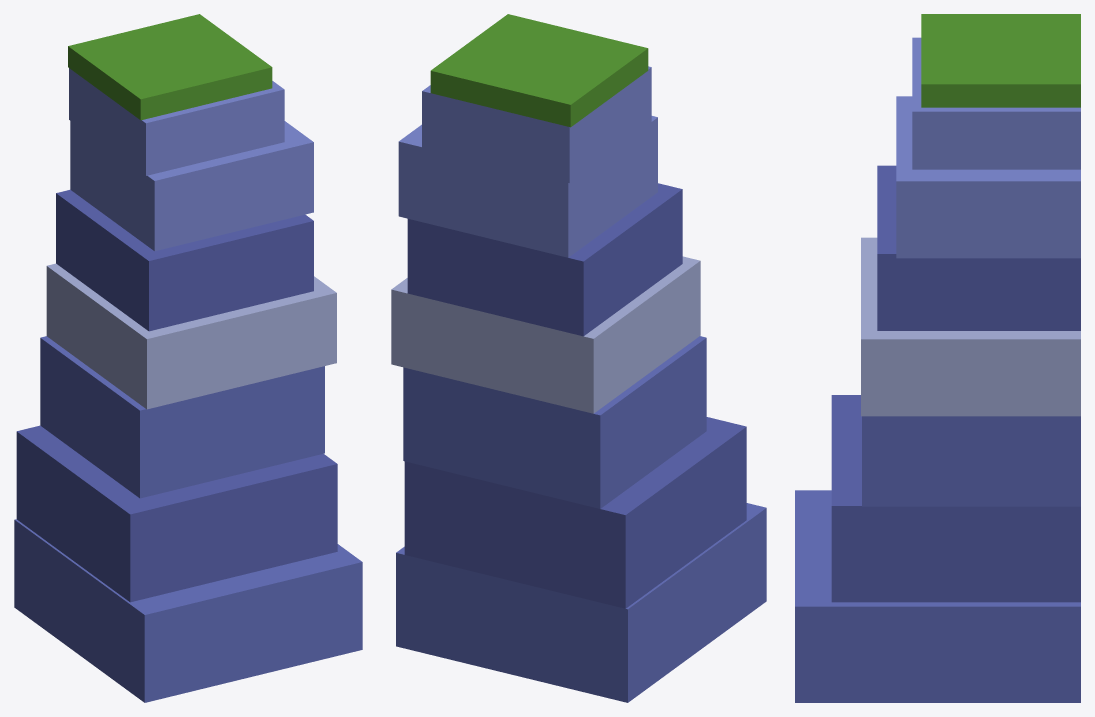
Rendered from Buttress.glb.
The picture shows the model from 3 angles, left to right: view 1: azimuth 30°, elevation 25°; view 2: azimuth 150°, elevation 25°; view 3: azimuth 270°, elevation 25°; orthographic projection. The views are drawn at different scales.
Parts seen in each view (by area): view 1: Buttress; view 2: Buttress; view 3: Buttress.
Part boxes in pixels (x1=…): Buttress: x1=14, y1=14, x2=362, y2=702; Buttress: x1=391, y1=14, x2=766, y2=702; Buttress: x1=795, y1=14, x2=1080, y2=702.
Bounding box in the file's own units: 6.61 × 15.6 × 6.72.
Materials: 1 (1 with a texture image).
